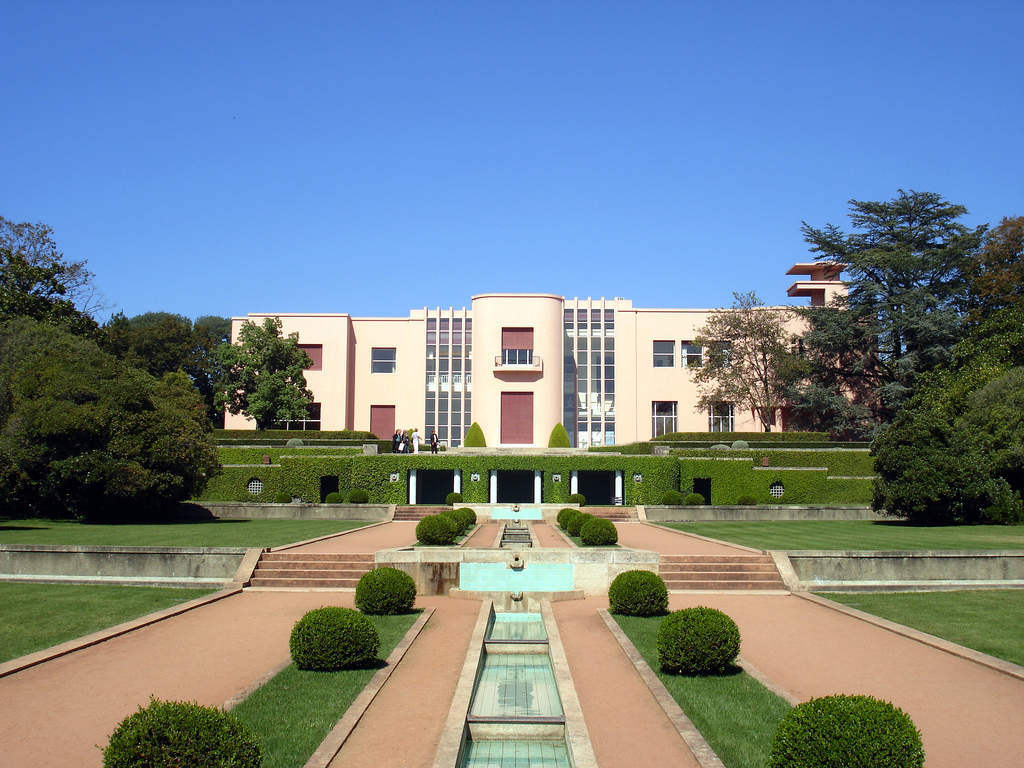serralves: (225, 253, 879, 452)
